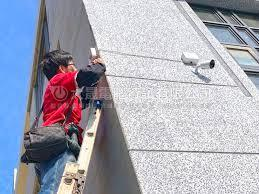Monitor: (182, 48, 224, 90)
